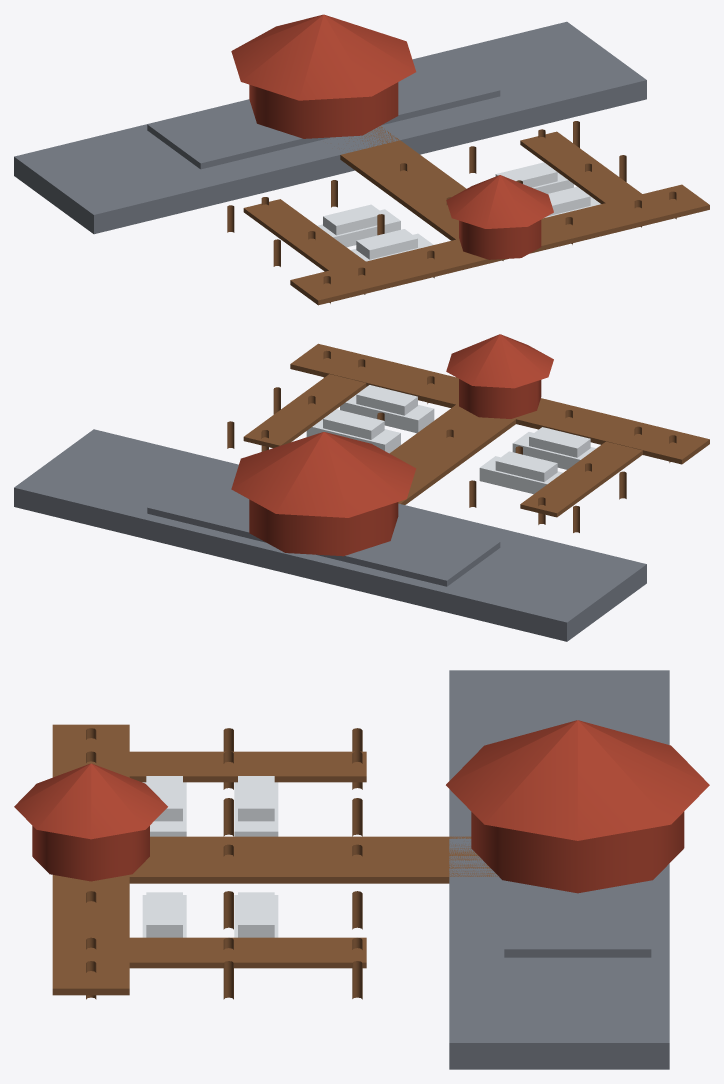
The model's file is lm_19_ho_tuyen_lam_marina_pier.glb.
3 views of the same model, one above another, from view 1: azimuth 30°, elevation 25°; view 2: azimuth 150°, elevation 25°; view 3: azimuth 270°, elevation 25° (orthographic). The views are drawn at different scales.
Parts seen in each view (by area): view 1: Shoreline_Granite_Embankment, Timber_Pier_And_Finger_Jetties, Marina_Pavilions_And_Roofs, Moored_Sightseeing_Boats; view 2: Shoreline_Granite_Embankment, Timber_Pier_And_Finger_Jetties, Marina_Pavilions_And_Roofs, Moored_Sightseeing_Boats; view 3: Shoreline_Granite_Embankment, Timber_Pier_And_Finger_Jetties, Marina_Pavilions_And_Roofs, Moored_Sightseeing_Boats.
Part boxes in pixels (x1=…): Shoreline_Granite_Embankment: x1=14, y1=21, x2=646, y2=234; Timber_Pier_And_Finger_Jetties: x1=227, y1=121, x2=709, y2=305; Marina_Pavilions_And_Roofs: x1=231, y1=14, x2=553, y2=259; Moored_Sightseeing_Boats: x1=317, y1=162, x2=600, y2=261; Shoreline_Granite_Embankment: x1=14, y1=429, x2=646, y2=641; Timber_Pier_And_Finger_Jetties: x1=227, y1=343, x2=709, y2=532; Marina_Pavilions_And_Roofs: x1=231, y1=334, x2=553, y2=556; Moored_Sightseeing_Boats: x1=306, y1=385, x2=595, y2=494; Shoreline_Granite_Embankment: x1=449, y1=670, x2=669, y2=1069; Timber_Pier_And_Finger_Jetties: x1=52, y1=724, x2=497, y2=999; Marina_Pavilions_And_Roofs: x1=14, y1=720, x2=709, y2=893; Moored_Sightseeing_Boats: x1=142, y1=776, x2=278, y2=937.
Size of the model in its own units: 48 by 9.8 by 37.9.
